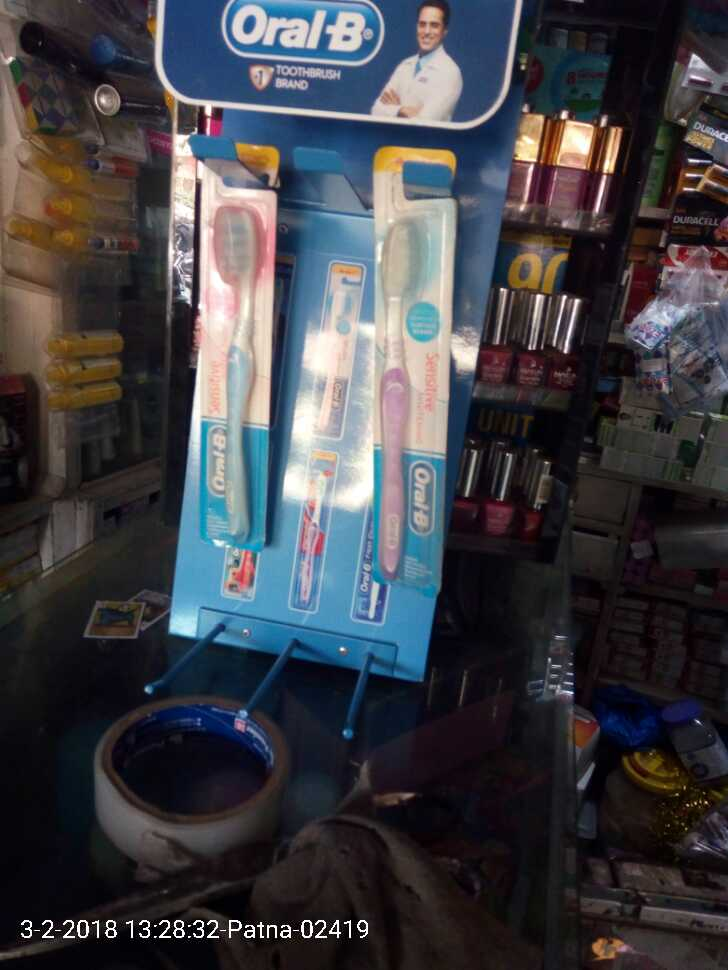oralb: (355, 214, 450, 593), (187, 176, 277, 560)
